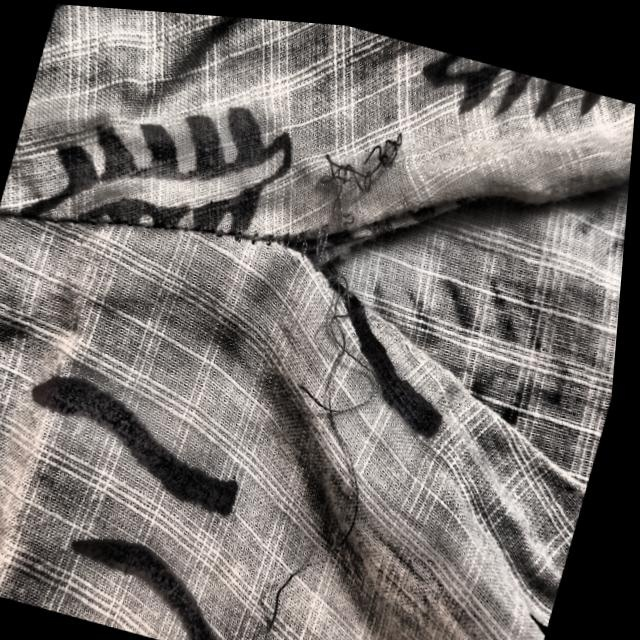Stitch: (119, 15, 531, 639)
